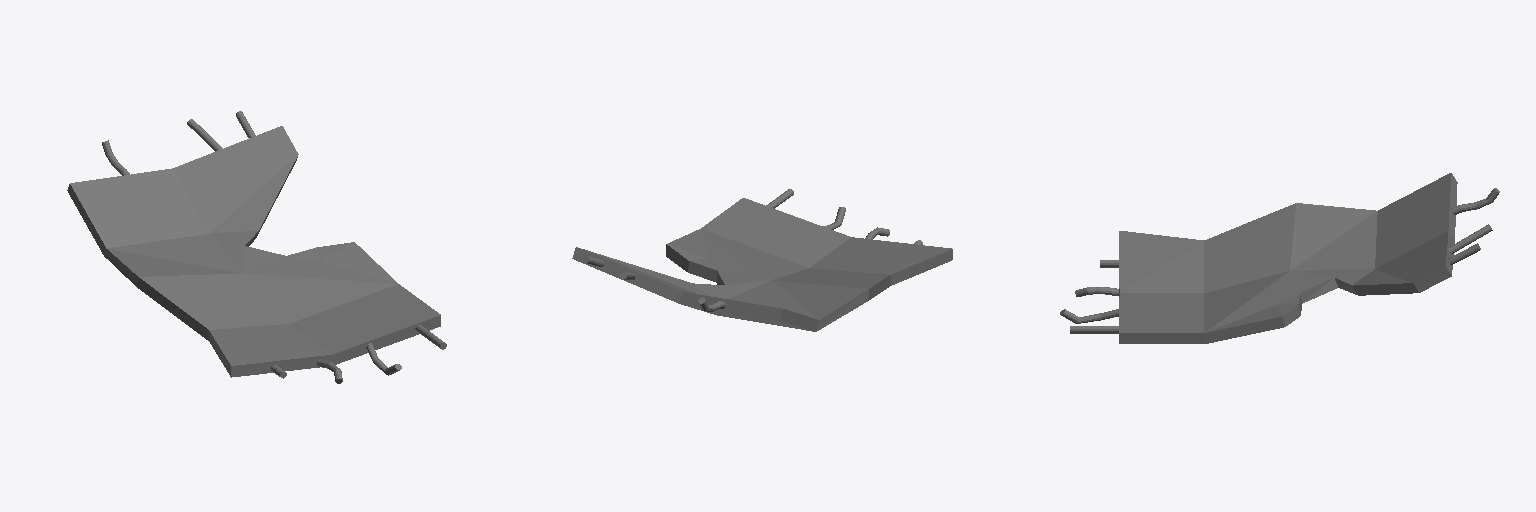
Rendered from hullpiece.obj.
3 views of the same model, side by side, from view 1: azimuth 30°, elevation 25°; view 2: azimuth 150°, elevation 25°; view 3: azimuth 270°, elevation 25° (orthographic).
Parts seen in each view (by area): view 1: hullpiece:Mesh_hullpiece:Mesh; view 2: hullpiece:Mesh_hullpiece:Mesh; view 3: hullpiece:Mesh_hullpiece:Mesh.
Part boxes in pixels (bbox=[...]): hullpiece:Mesh_hullpiece:Mesh: bbox=[67, 111, 446, 383]; hullpiece:Mesh_hullpiece:Mesh: bbox=[572, 189, 952, 331]; hullpiece:Mesh_hullpiece:Mesh: bbox=[1060, 173, 1499, 343].
Bounding box in the file's own units: 11.46 × 5.23 × 19.91.